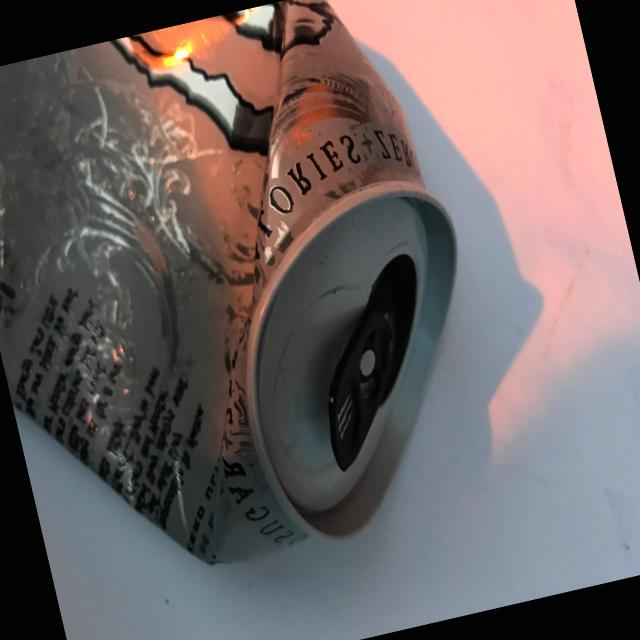Metal: (0, 0, 532, 620)
